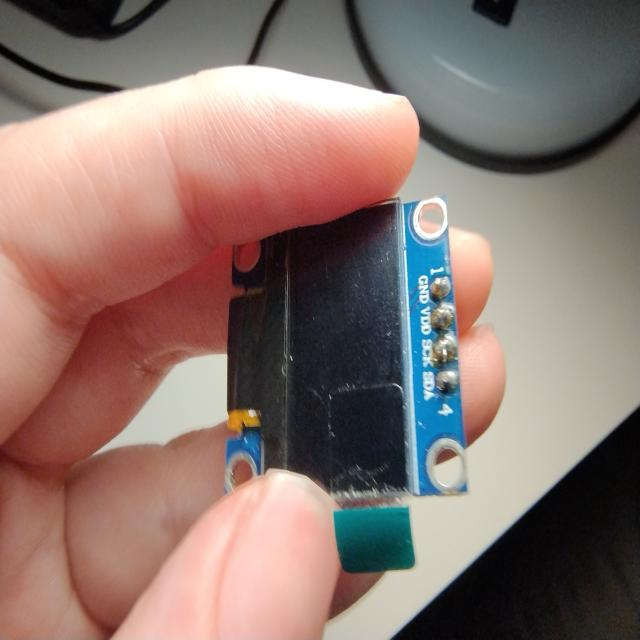oled: (223, 196, 471, 579)
